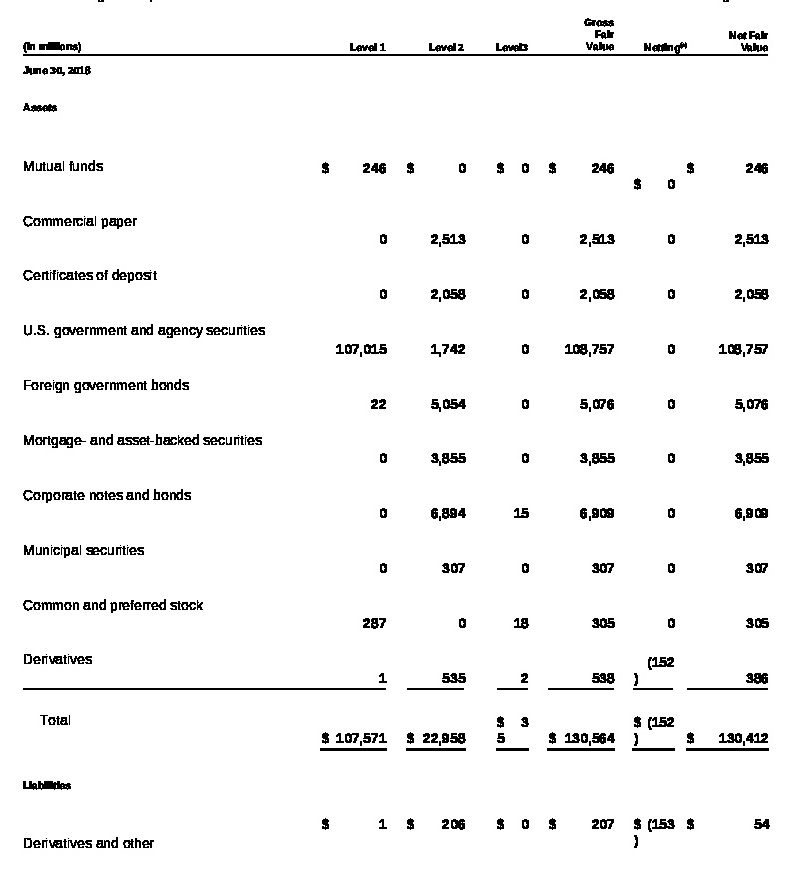table: (0, 0, 799, 871)
